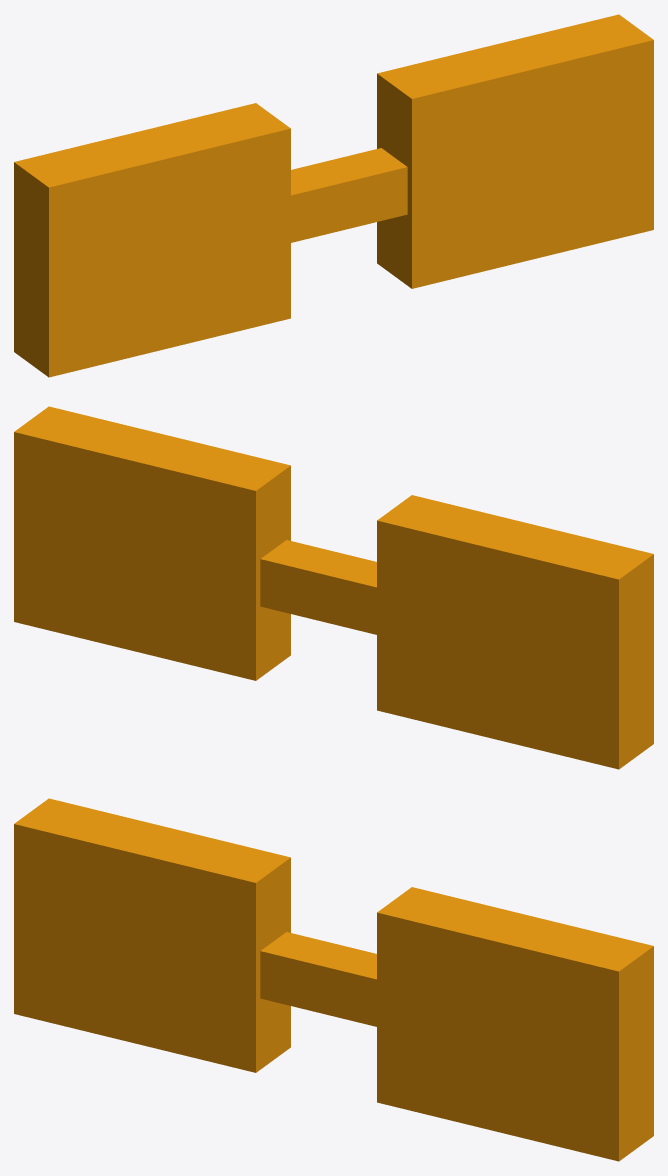
The model's file is accessory_glasses.glb.
The picture shows the model from 3 angles, top to bottom: view 1: azimuth 30°, elevation 25°; view 2: azimuth 150°, elevation 25°; view 3: azimuth 330°, elevation 25°; orthographic projection.
Parts seen in each view (by area): view 1: lens_r, lens_l, bridge; view 2: lens_r, lens_l, bridge; view 3: lens_l, lens_r, bridge.
Part boxes in pixels (box(x1,y1,x2,y2)): lens_r: box(14, 103, 290, 377); lens_l: box(377, 14, 653, 288); bridge: box(291, 148, 407, 242); lens_r: box(377, 495, 653, 769); lens_l: box(14, 406, 290, 680); bridge: box(260, 540, 376, 634); lens_l: box(377, 887, 653, 1161); lens_r: box(14, 798, 290, 1072); bridge: box(260, 932, 376, 1026).
Size of the model in its own units: 0.2 by 0.06 by 0.02.
